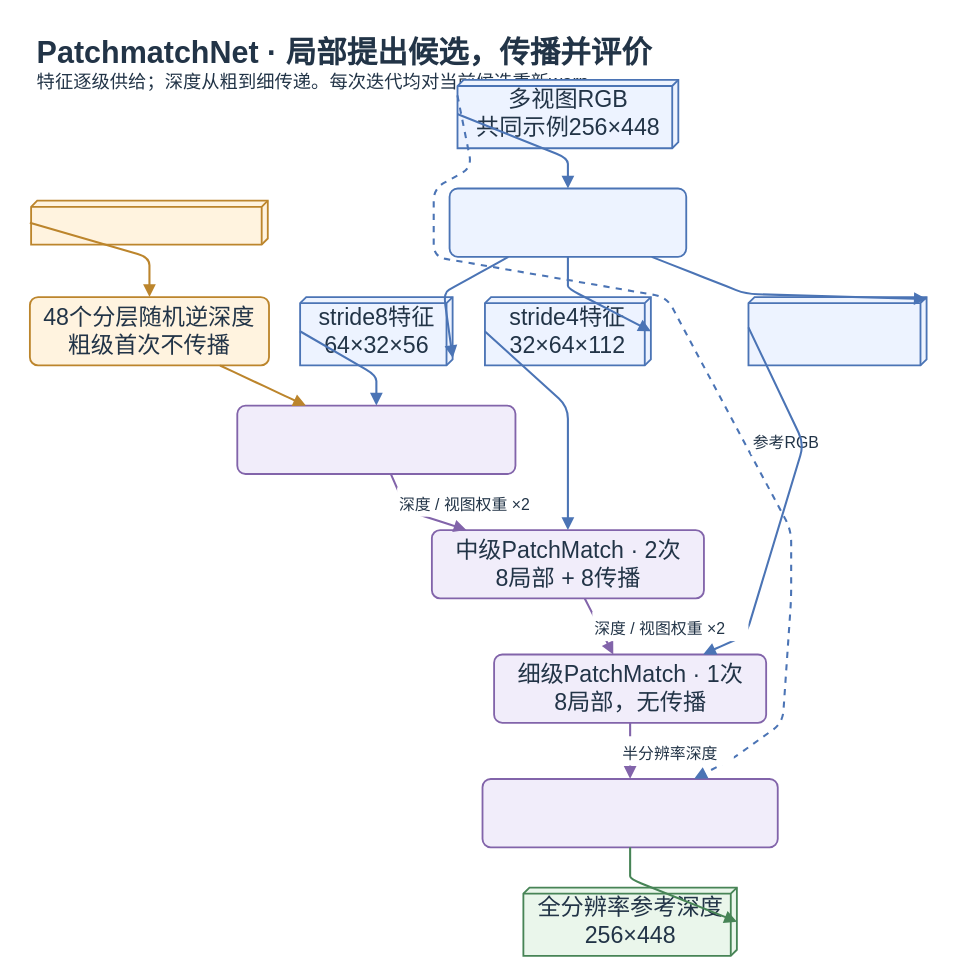
Image size: 959x977. Some labels were removed from this diagram. Here are the shapes that lost their labels. From the top down, the centre of each, then its label:
the point at 149,222: 投影矩阵 + 深度范围
the point at 567,222: 共享轻量CNN + FPN 自顶向下融合
the point at 837,331: stride2特征 16×128×224
the point at 376,439: 粗级PatchMatch · 2次 第2次：16局部 + 16传播
the point at 629,813: RGB引导残差细化 深度反卷积×2 + RGB卷积
